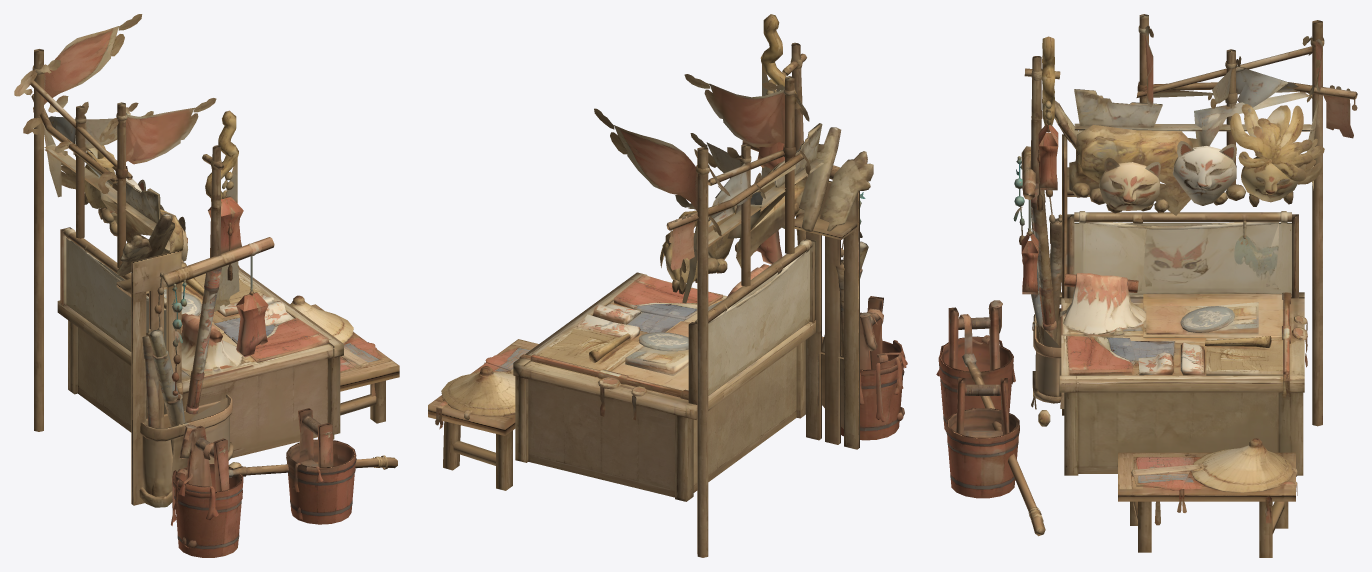
File: 玩具摊贩.glb
3 views of the same model, side by side, from view 1: azimuth 30°, elevation 25°; view 2: azimuth 150°, elevation 25°; view 3: azimuth 270°, elevation 25° (orthographic). The views are drawn at different scales.
Parts seen in each view (by area): view 1: tripo_node_547f38e0-e948-485b-9553-4798154ae945; view 2: tripo_node_547f38e0-e948-485b-9553-4798154ae945; view 3: tripo_node_547f38e0-e948-485b-9553-4798154ae945.
Boxes of the visible parts, x1,y1,x2,y2 form: tripo_node_547f38e0-e948-485b-9553-4798154ae945: (14, 14, 399, 557); tripo_node_547f38e0-e948-485b-9553-4798154ae945: (428, 14, 907, 557); tripo_node_547f38e0-e948-485b-9553-4798154ae945: (936, 14, 1357, 557).
Size of the model in its own units: 0.8198 by 0.9995 by 0.9087.
Materials: 1 (1 with a texture image).
